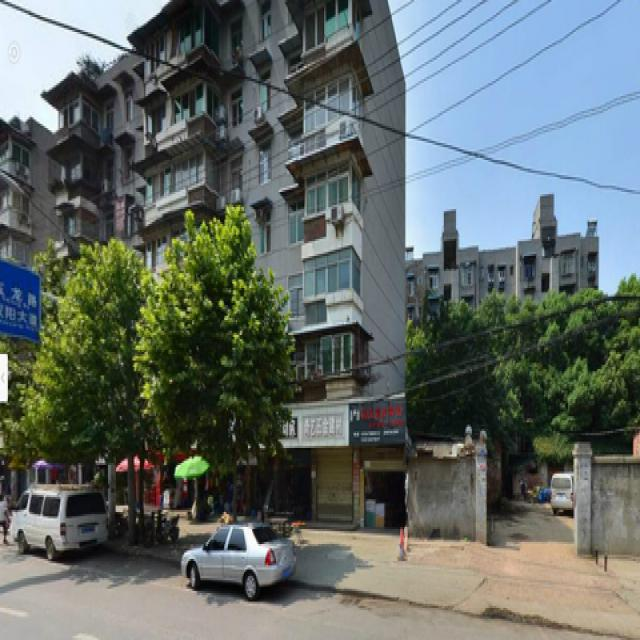meta: (165, 245, 264, 527), (60, 254, 157, 537)
